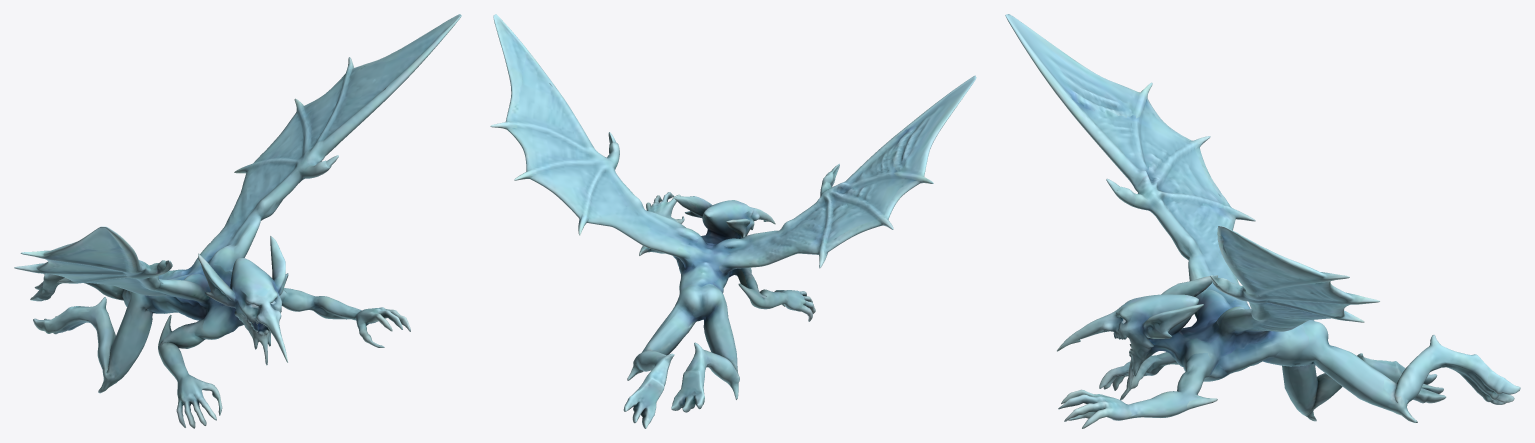
The model's file is MZ4250 - Ice Mephit_4 2025.glb.
3 views of the same model, side by side, from view 1: azimuth 30°, elevation 25°; view 2: azimuth 150°, elevation 25°; view 3: azimuth 270°, elevation 25° (orthographic). The views are drawn at different scales.
Parts seen in each view (by area): view 1: Cylinder.001; view 2: Cylinder.001; view 3: Cylinder.001.
Boxes of the visible parts, x1=… form: Cylinder.001: x1=14, y1=14, x2=461, y2=428; Cylinder.001: x1=490, y1=14, x2=976, y2=428; Cylinder.001: x1=1005, y1=14, x2=1520, y2=428.
Size of the model in its own units: 123 by 82.81 by 105.
Materials: 1 (1 with a texture image).
